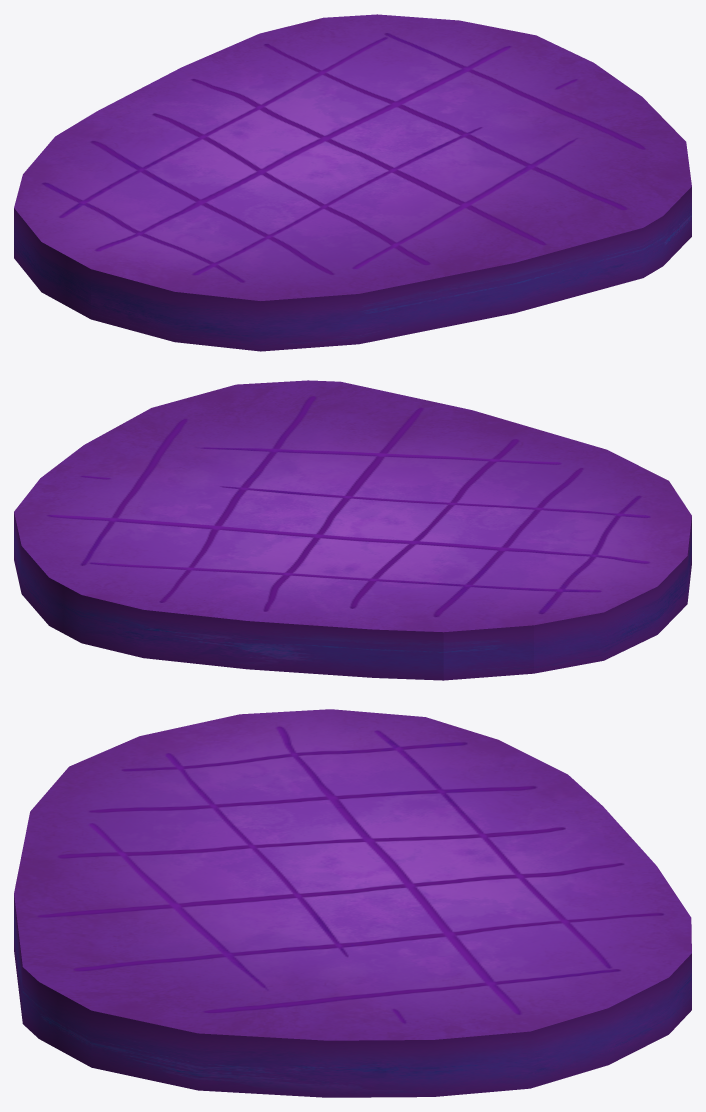
Rendered from filete.fbx.
3 renders of one model, top to bottom at view 1: azimuth 30°, elevation 25°; view 2: azimuth 150°, elevation 25°; view 3: azimuth 270°, elevation 25°, orthographic. The views are drawn at different scales.
Parts seen in each view (by area): view 1: CarneCocinada (Monstruo); view 2: CarneCocinada (Monstruo); view 3: CarneCocinada (Monstruo).
Boxes of the visible parts, x1=… form: CarneCocinada (Monstruo): x1=14, y1=14, x2=691, y2=351; CarneCocinada (Monstruo): x1=14, y1=380, x2=691, y2=680; CarneCocinada (Monstruo): x1=14, y1=709, x2=691, y2=1097.
Bounding box in the file's own units: 19.21 × 1.54 × 16.6.
